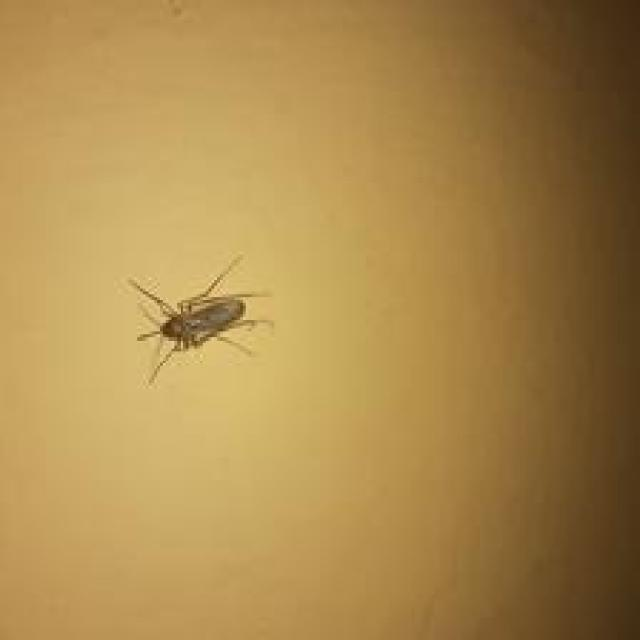Culex: (126, 251, 274, 386)
